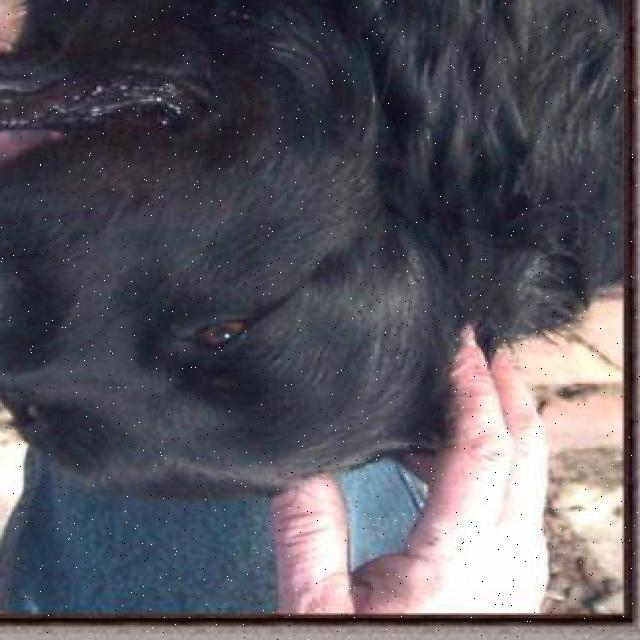Dog: (0, 41, 395, 506)
